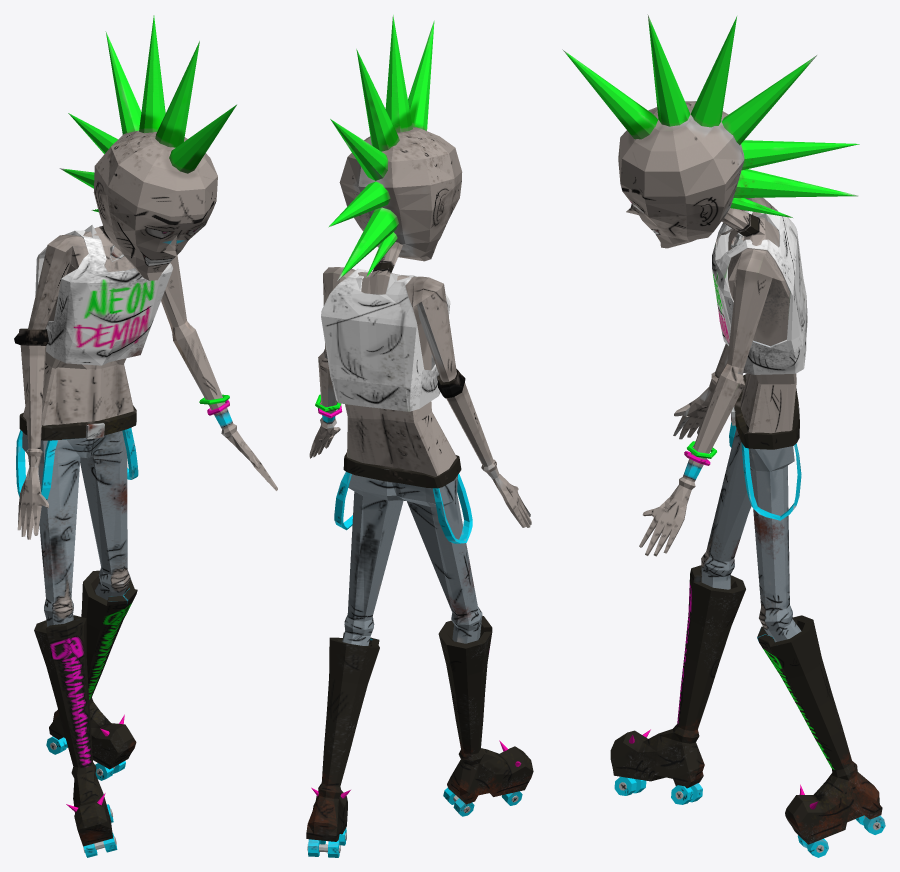
The model's file is punkAnimation_000151.obj.
The picture shows the model from 3 angles, left to right: view 1: azimuth 30°, elevation 25°; view 2: azimuth 150°, elevation 25°; view 3: azimuth 270°, elevation 25°; orthographic projection. The views are drawn at different scales.
Visible parts, largest first — view 1: Cube.004_Cube.003; view 2: Cube.004_Cube.003; view 3: Cube.004_Cube.003.
Part boxes in pixels (x1=…): Cube.004_Cube.003: x1=14, y1=15, x2=277, y2=857; Cube.004_Cube.003: x1=306, y1=15, x2=533, y2=857; Cube.004_Cube.003: x1=562, y1=14, x2=885, y2=857.
Bounding box in the file's own units: 2.34 × 7.4 × 2.57.
